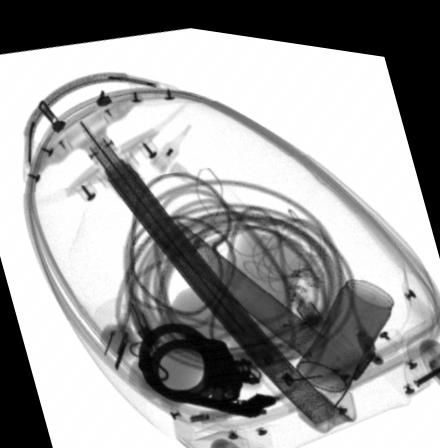Gun: (174, 381, 280, 410)
HandCuffs: (138, 316, 261, 404)
